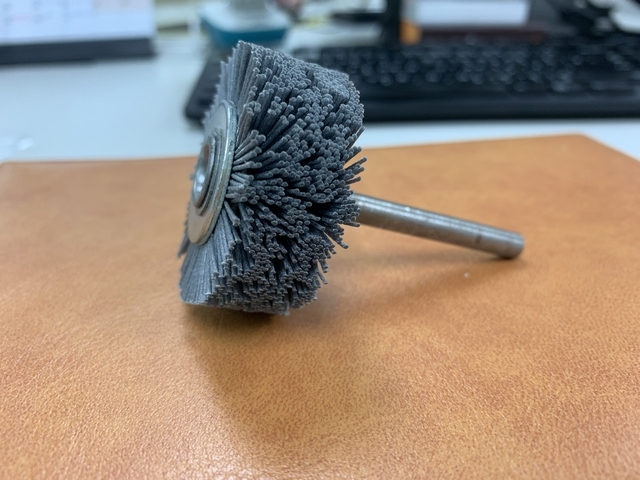Wheel Brush: (147, 30, 543, 319), (176, 66, 552, 312), (162, 3, 367, 351)
